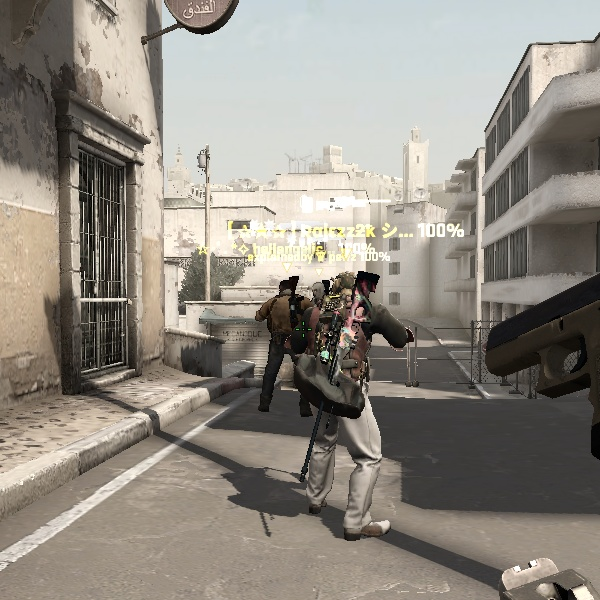t_body: (289, 273, 415, 545), (247, 269, 331, 417)
t_head: (324, 262, 371, 310), (271, 272, 307, 308)
